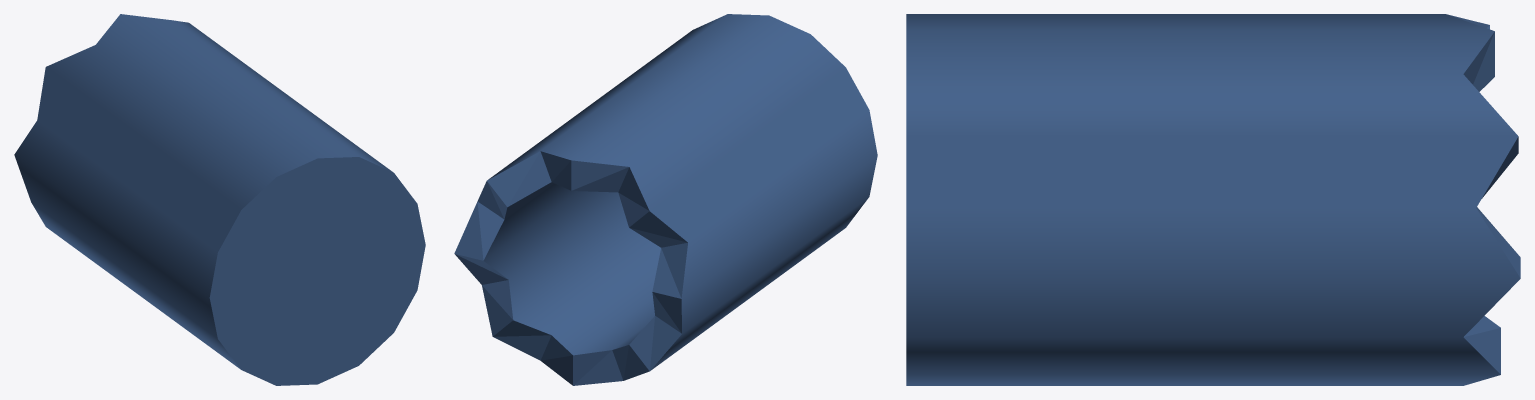
Rendered from BlueMetalDecorationSmallBrokenPipeEnd1.fbx.
The picture shows the model from 3 angles, left to right: view 1: azimuth 30°, elevation 25°; view 2: azimuth 150°, elevation 25°; view 3: azimuth 270°, elevation 25°; orthographic projection. The views are drawn at different scales.
Visible parts, largest first — view 1: BlueMetalDecorationSmallBrokenPipeEnd1; view 2: BlueMetalDecorationSmallBrokenPipeEnd1; view 3: BlueMetalDecorationSmallBrokenPipeEnd1.
Boxes of the visible parts, <box> form: BlueMetalDecorationSmallBrokenPipeEnd1: <box>14,14,425,385</box>; BlueMetalDecorationSmallBrokenPipeEnd1: <box>454,14,877,385</box>; BlueMetalDecorationSmallBrokenPipeEnd1: <box>906,14,1520,385</box>.
Bounding box in the file's own units: 60 × 60 × 99.03.
